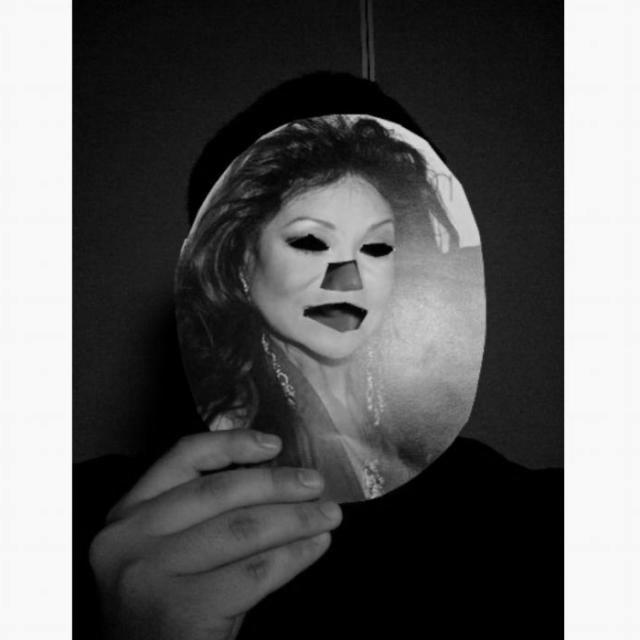fake: (170, 117, 488, 507)
